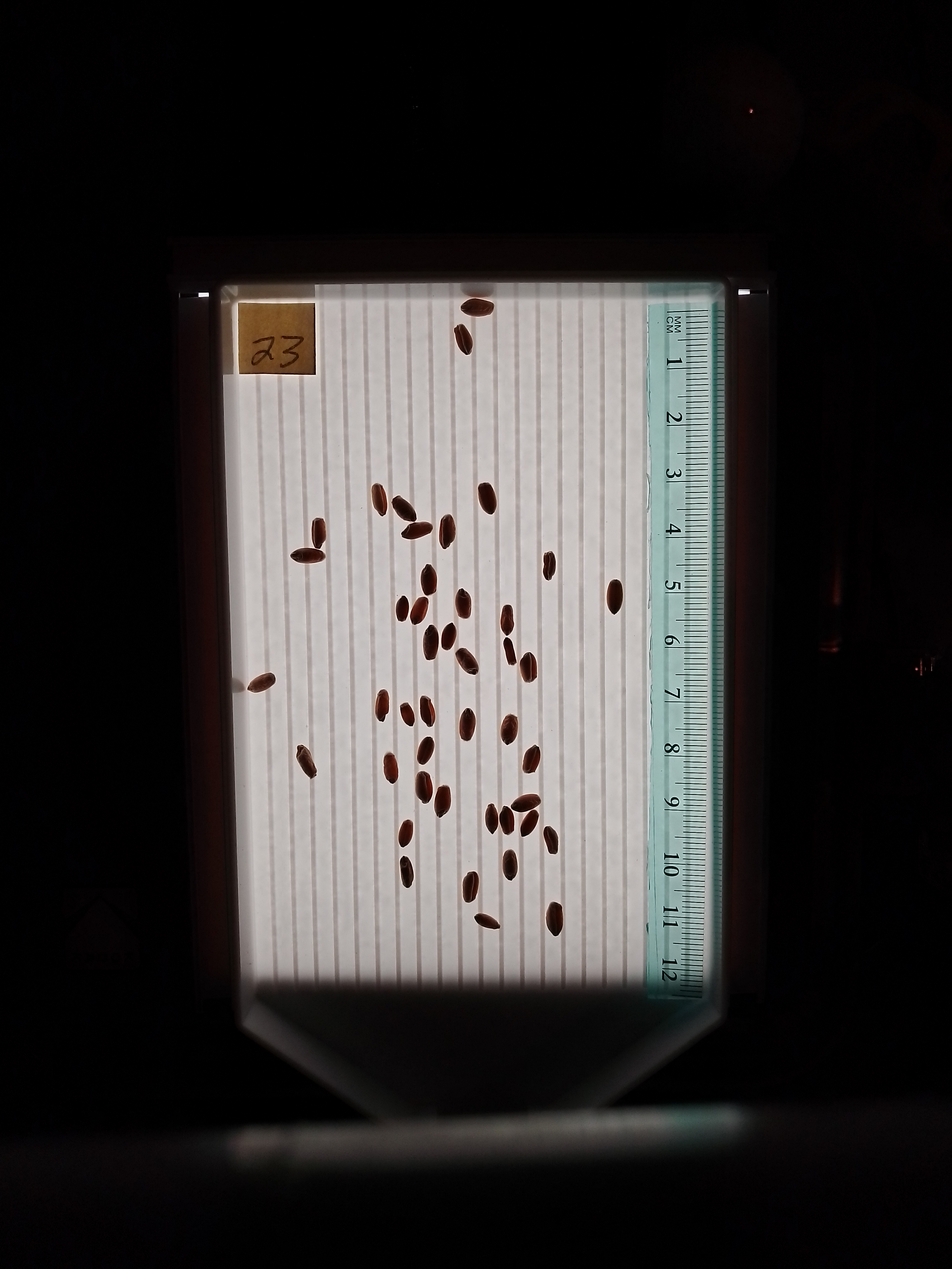seed mask: (297, 745, 317, 778), (478, 482, 497, 515), (606, 580, 624, 614), (456, 648, 479, 674), (393, 496, 416, 522), (546, 903, 564, 936), (462, 298, 493, 317), (454, 325, 473, 355), (459, 709, 476, 742), (500, 715, 519, 744), (402, 521, 431, 540), (519, 653, 537, 683), (423, 626, 439, 659), (291, 548, 324, 564), (434, 786, 451, 817), (416, 773, 433, 804), (420, 565, 437, 596), (522, 746, 541, 773), (439, 516, 455, 548), (462, 872, 479, 902), (512, 794, 540, 812), (410, 596, 428, 624), (248, 674, 274, 693), (311, 517, 326, 549), (372, 483, 387, 515), (455, 590, 472, 618), (417, 737, 434, 764), (374, 691, 389, 721), (503, 851, 518, 880), (383, 754, 398, 783), (420, 696, 435, 725), (398, 820, 414, 847), (499, 807, 515, 834), (400, 857, 414, 887), (543, 826, 558, 854), (521, 812, 538, 836), (475, 913, 499, 930), (443, 623, 457, 650), (485, 805, 498, 832), (543, 552, 556, 579), (501, 606, 513, 634), (400, 703, 415, 725), (396, 597, 409, 621), (505, 640, 516, 665)
